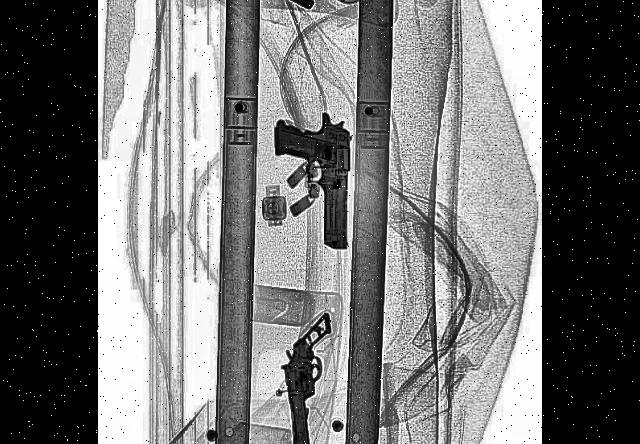Gun: (274, 106, 352, 248), (280, 310, 345, 444)
